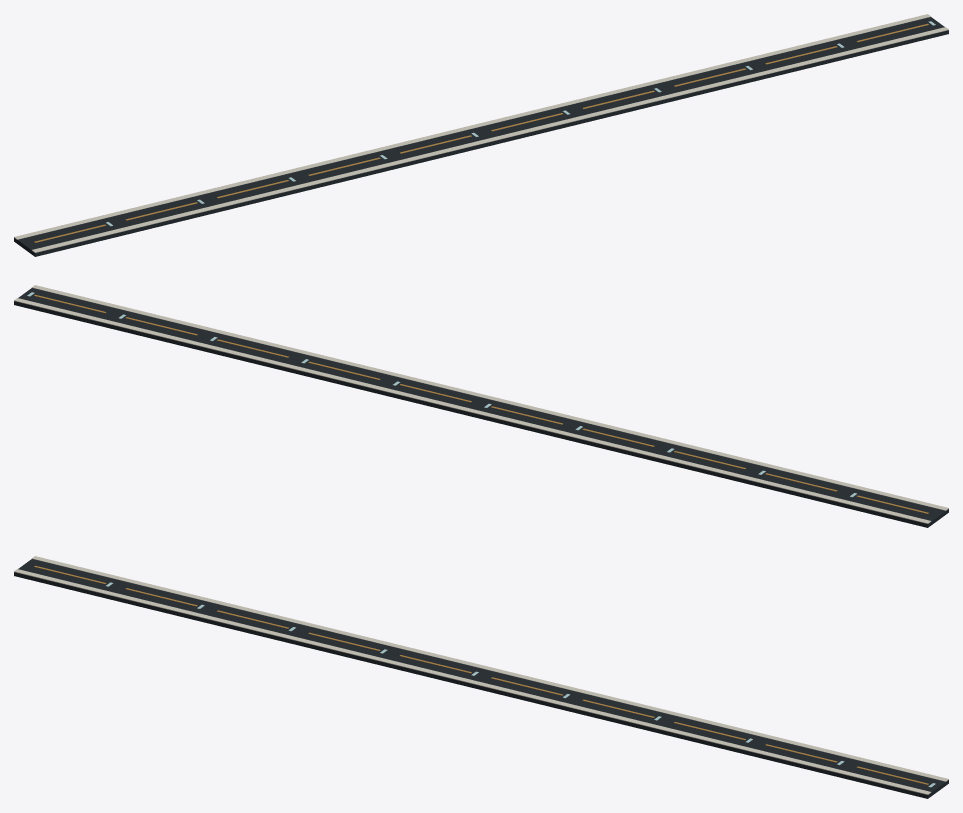
The model's file is SM_Aurelion_KIT_RefugeThreshold_5m.fbx.
The picture shows the model from 3 angles, top to bottom: view 1: azimuth 30°, elevation 25°; view 2: azimuth 150°, elevation 25°; view 3: azimuth 330°, elevation 25°; orthographic projection.
Parts seen in each view (by area): view 1: SM_Aurelion_KIT_RefugeThreshold_5m; view 2: SM_Aurelion_KIT_RefugeThreshold_5m; view 3: SM_Aurelion_KIT_RefugeThreshold_5m.
Boxes of the visible parts, left/top/right/bottom form: SM_Aurelion_KIT_RefugeThreshold_5m: left=14, top=14, right=948, bottom=256; SM_Aurelion_KIT_RefugeThreshold_5m: left=14, top=285, right=948, bottom=527; SM_Aurelion_KIT_RefugeThreshold_5m: left=14, top=556, right=948, bottom=798.
Bounding box in the file's own units: 500 × 20 × 2.5.
